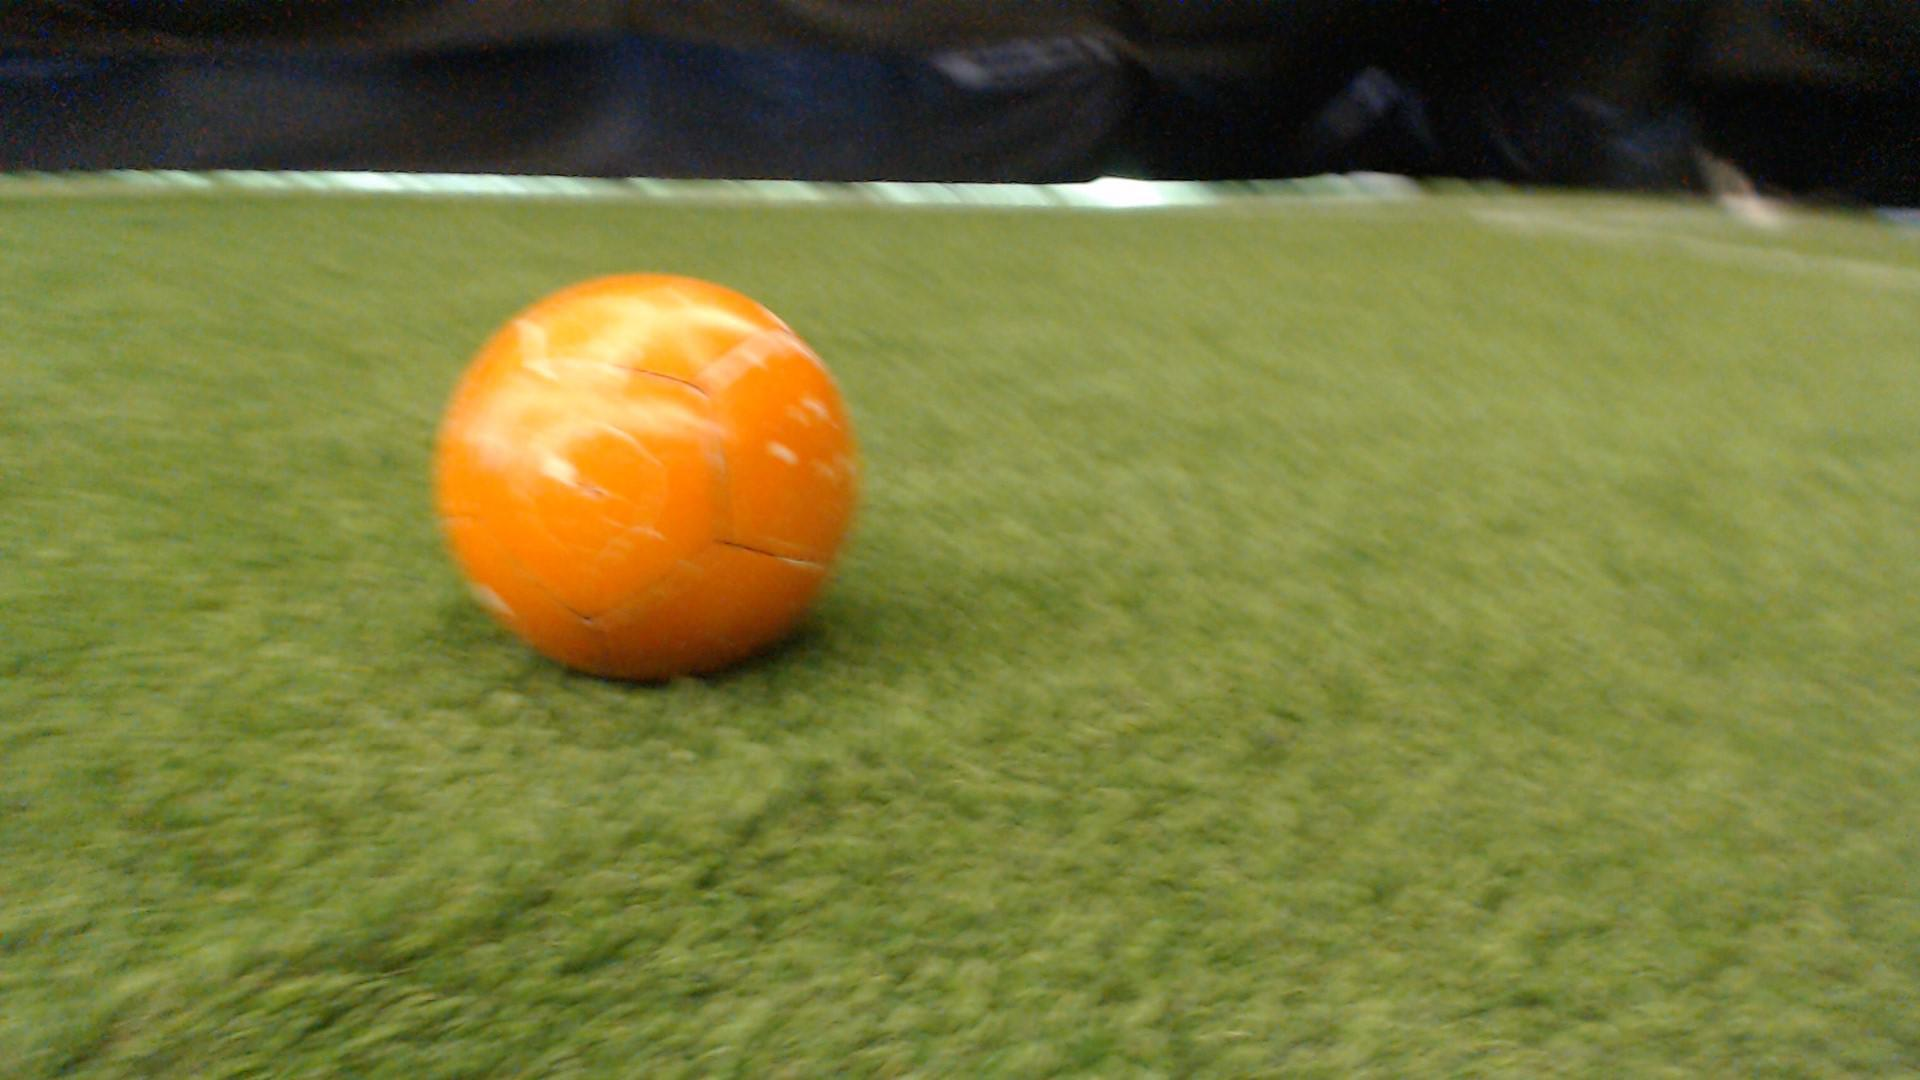bola: (388, 245, 914, 724)
